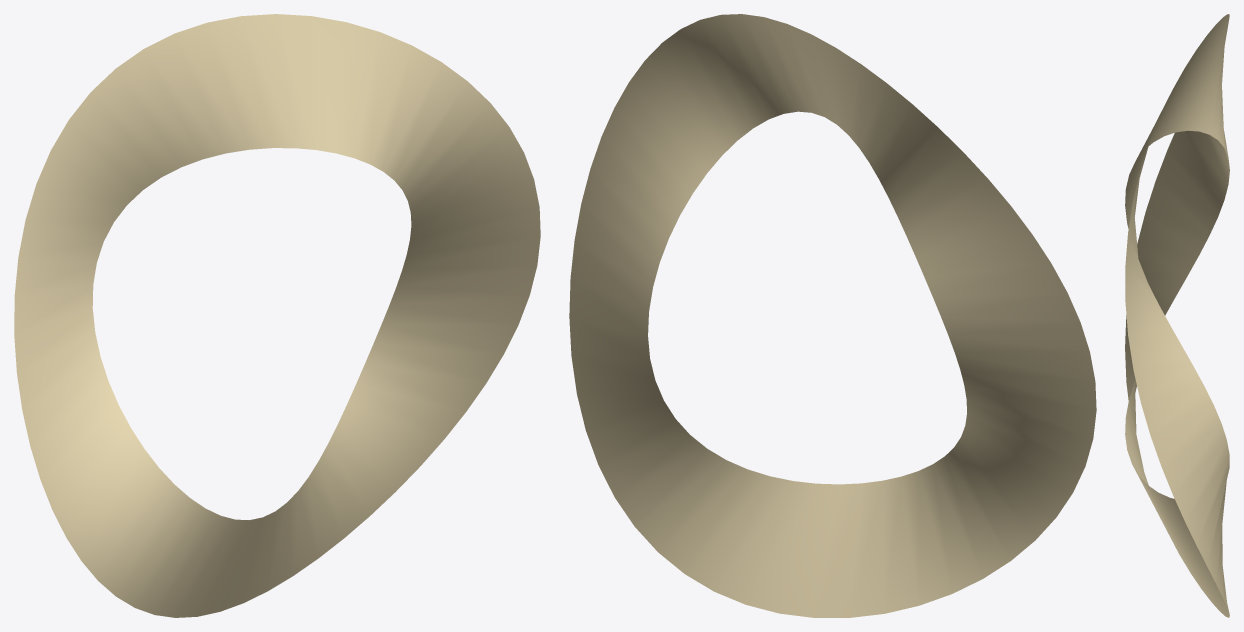
Rendered from ribbon-loop.glb.
The picture shows the model from 3 angles, left to right: view 1: azimuth 30°, elevation 25°; view 2: azimuth 150°, elevation 25°; view 3: azimuth 270°, elevation 25°; orthographic projection. The views are drawn at different scales.
Visible parts, largest first — view 1: ribbon-0; view 2: ribbon-0; view 3: ribbon-0.
Boxes of the visible parts, <box> form: ribbon-0: <box>14,14,540,617</box>; ribbon-0: <box>569,14,1096,617</box>; ribbon-0: <box>1125,14,1229,617</box>.
Size of the model in its own units: 2.52 by 2.72 by 0.4665.
